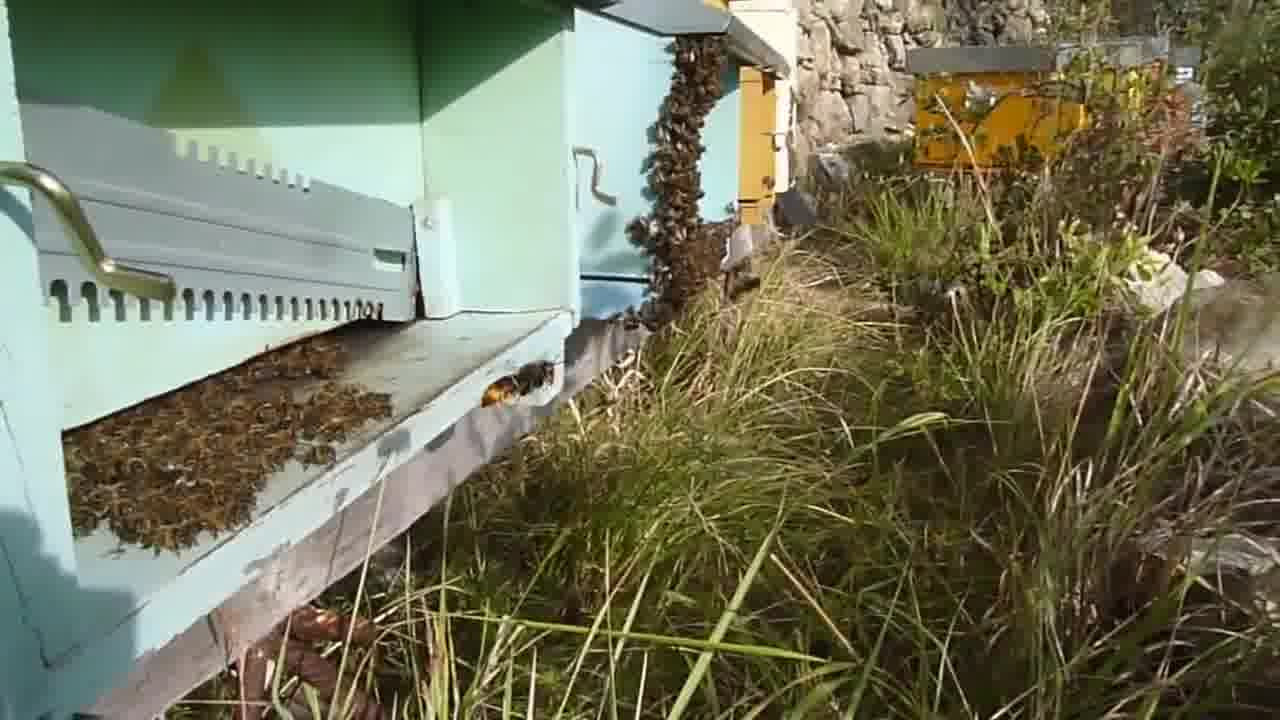bee: (66, 427, 261, 553), (287, 381, 404, 459), (629, 190, 735, 265), (240, 329, 341, 386), (661, 37, 731, 112), (122, 389, 281, 421), (647, 116, 710, 187)
hornet: (475, 361, 552, 411)
